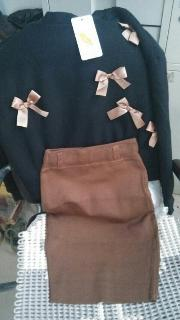long sleeve top: (0, 6, 175, 215)
skirt: (40, 138, 160, 304)
